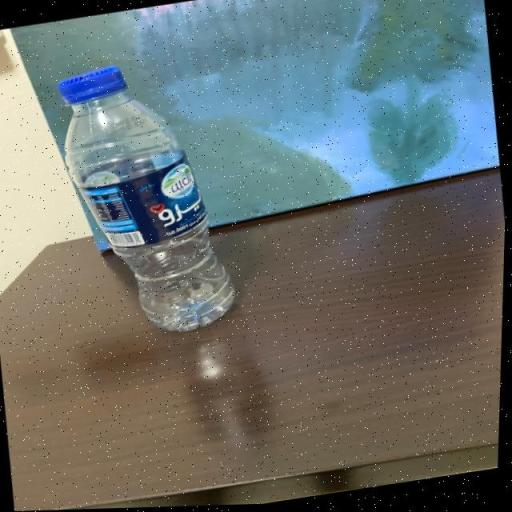plastic: (58, 66, 238, 335)
